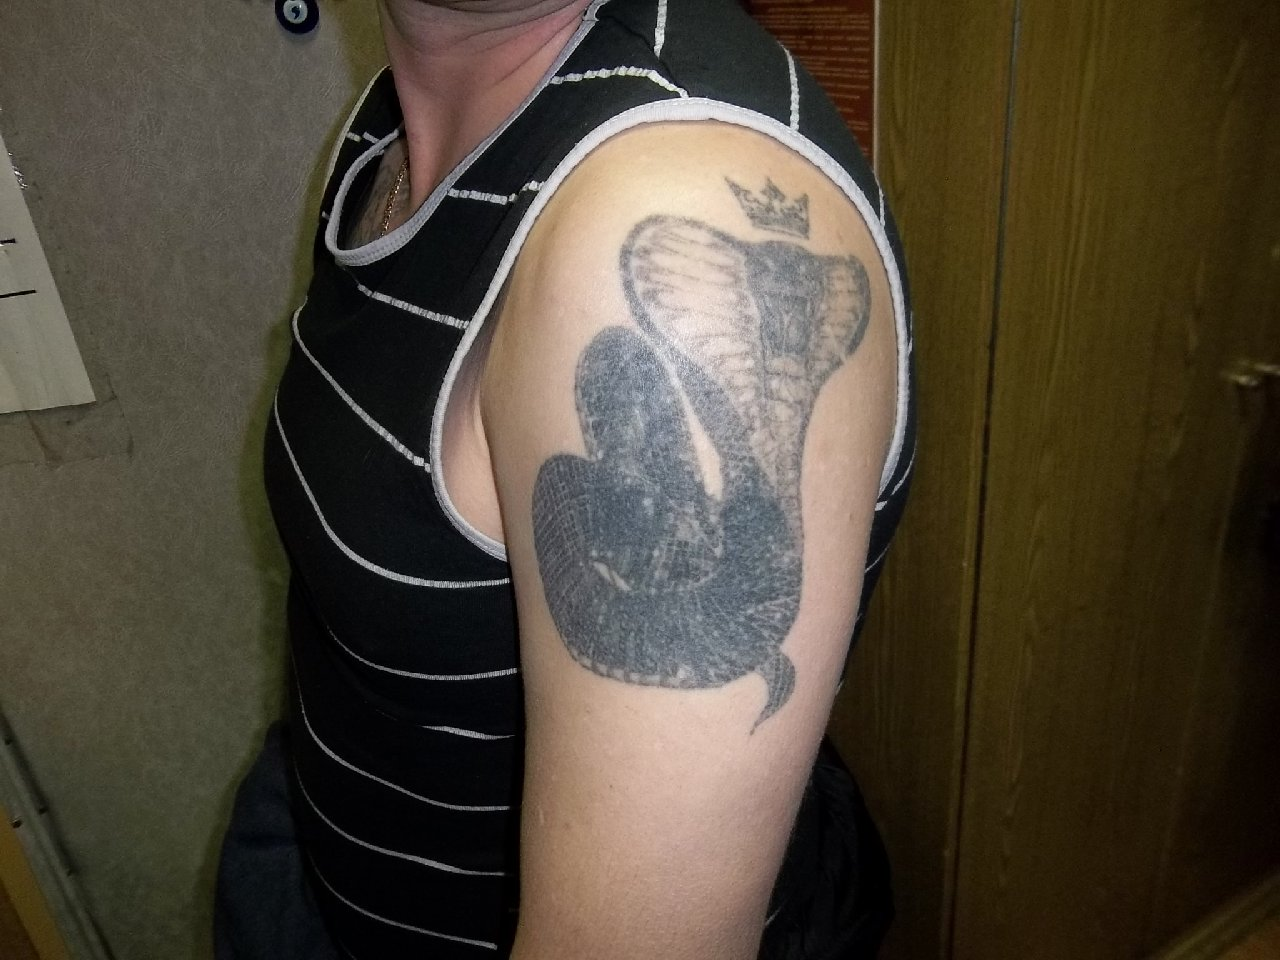tatu7_zmeya: (521, 199, 930, 608)
